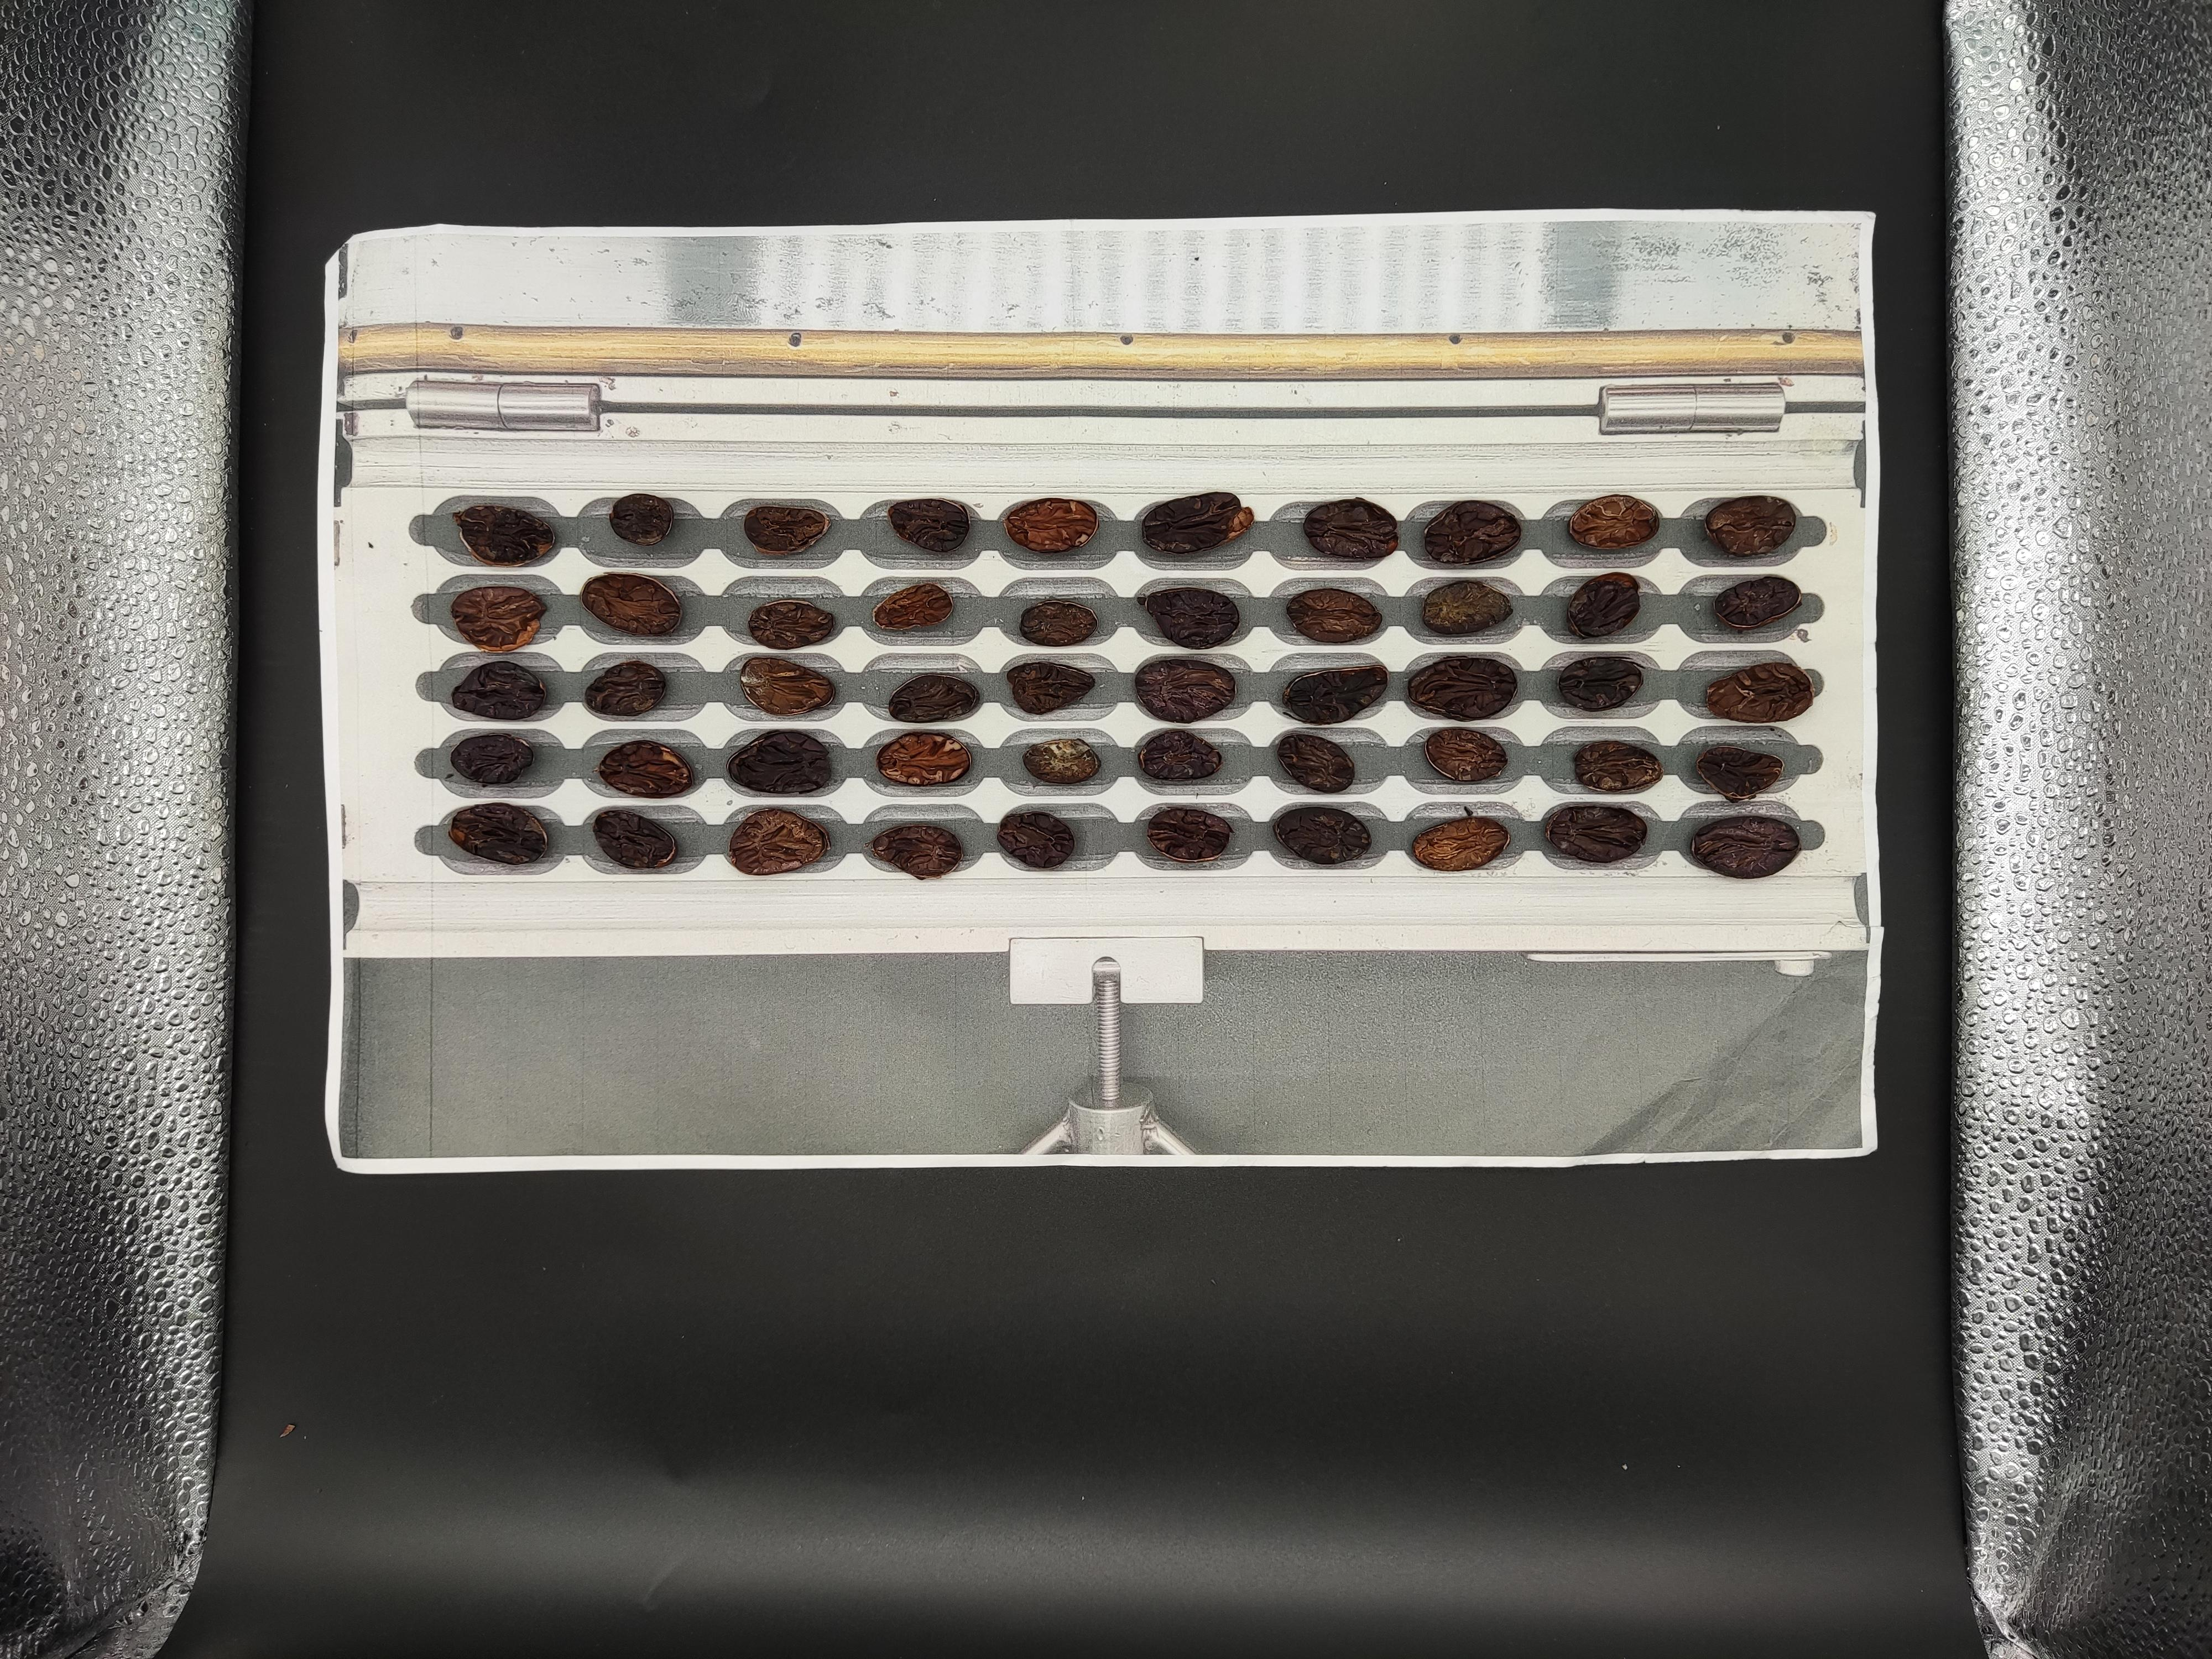Brown - G1: (1797, 1141, 1862, 1183), (1306, 1107, 1364, 1148), (1383, 1187, 1439, 1223), (1524, 1183, 1581, 1216), (1590, 1063, 1646, 1096), (1881, 1187, 1935, 1218), (1460, 1115, 1512, 1147), (1524, 1103, 1571, 1136)
Brown - G2: (1449, 1222, 1507, 1262), (1949, 1147, 2010, 1183), (1521, 1227, 1576, 1263), (1881, 1060, 1933, 1093), (1590, 1148, 1644, 1180), (1806, 1180, 1855, 1213)
Brown - G3: (1374, 1100, 1432, 1138), (1951, 1061, 2003, 1100), (1801, 1225, 1857, 1260), (1735, 1108, 1792, 1141), (1456, 1065, 1510, 1100)
Brown - G4: (1597, 1115, 1646, 1145)
Insect-damaged: (1804, 1103, 1858, 1138)
Mouldy: (1456, 1143, 1512, 1180), (1601, 1185, 1644, 1215)
Partly Purple - G1: (1449, 1182, 1510, 1220), (1665, 1218, 1714, 1255)
Partly Purple - G2: (1733, 1145, 1796, 1187), (1308, 1216, 1366, 1260), (1658, 1143, 1719, 1183), (1742, 1061, 1801, 1100), (1869, 1218, 1926, 1256), (1379, 1222, 1432, 1258), (1588, 1222, 1635, 1258), (1531, 1061, 1580, 1094)
Total Purple - G2: (1306, 1145, 1364, 1182), (1658, 1180, 1709, 1213)
Total Purple - G3: (1942, 1225, 2005, 1263), (1662, 1107, 1717, 1147), (1952, 1100, 2006, 1140), (1308, 1183, 1359, 1215)
Very Dark Brown - G1: (1658, 1060, 1724, 1098), (1310, 1065, 1369, 1105), (1879, 1101, 1925, 1141)
Very Dark Brown - G2: (1806, 1061, 1864, 1105), (1728, 1182, 1780, 1220), (1872, 1143, 1926, 1178), (1374, 1145, 1425, 1182), (1946, 1188, 1998, 1222)
Very Dark Brown - G3: (1730, 1218, 1785, 1256), (1529, 1152, 1585, 1185), (1388, 1056, 1428, 1093)
